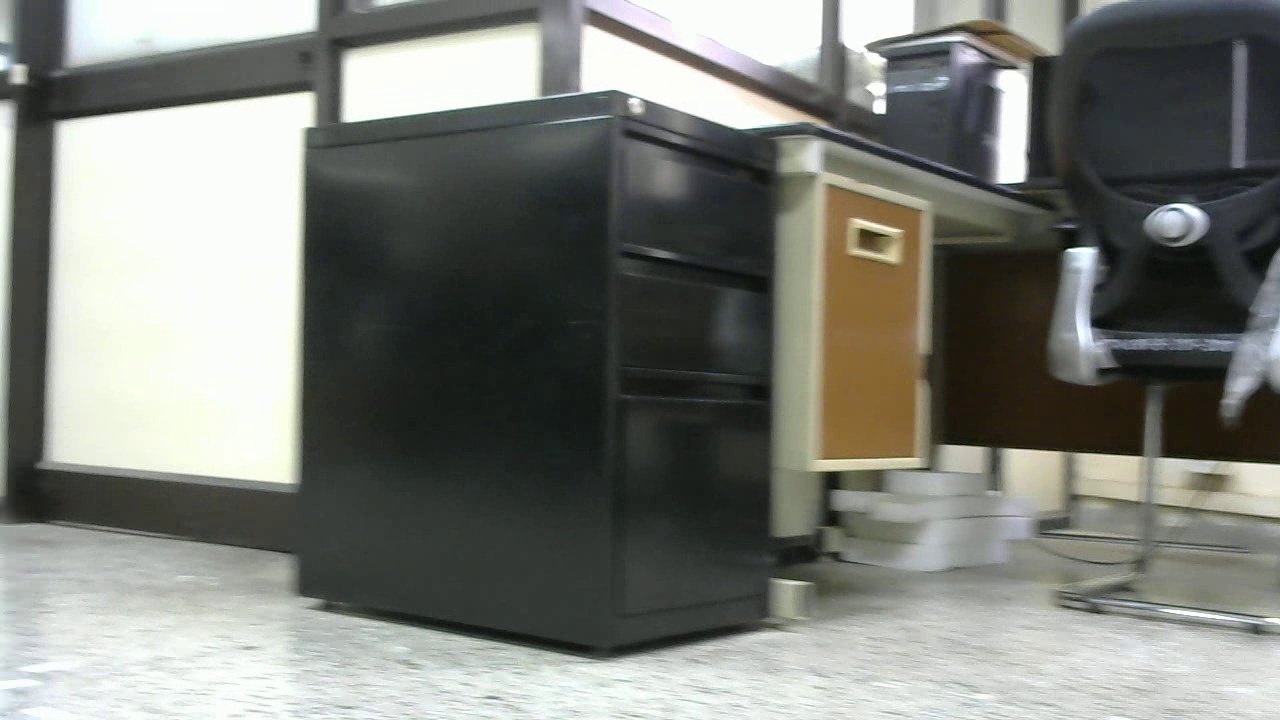chair: (1041, 2, 1280, 641)
